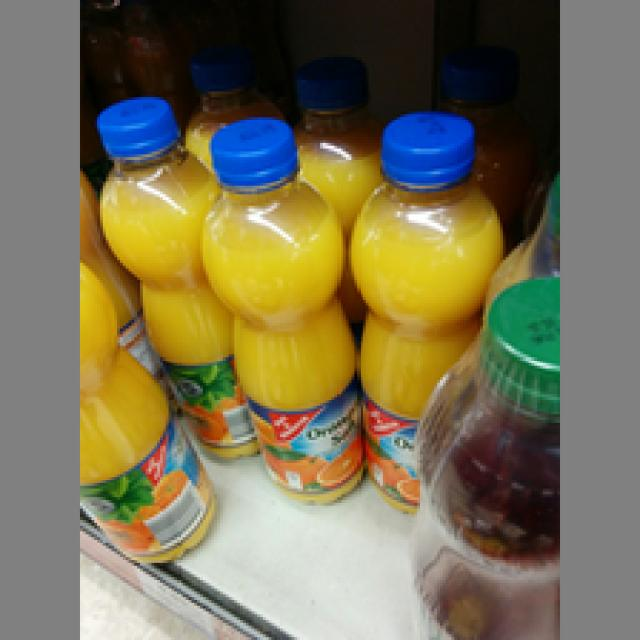groceries: (194, 114, 360, 503), (343, 106, 503, 508), (89, 94, 260, 460), (77, 257, 220, 566)
